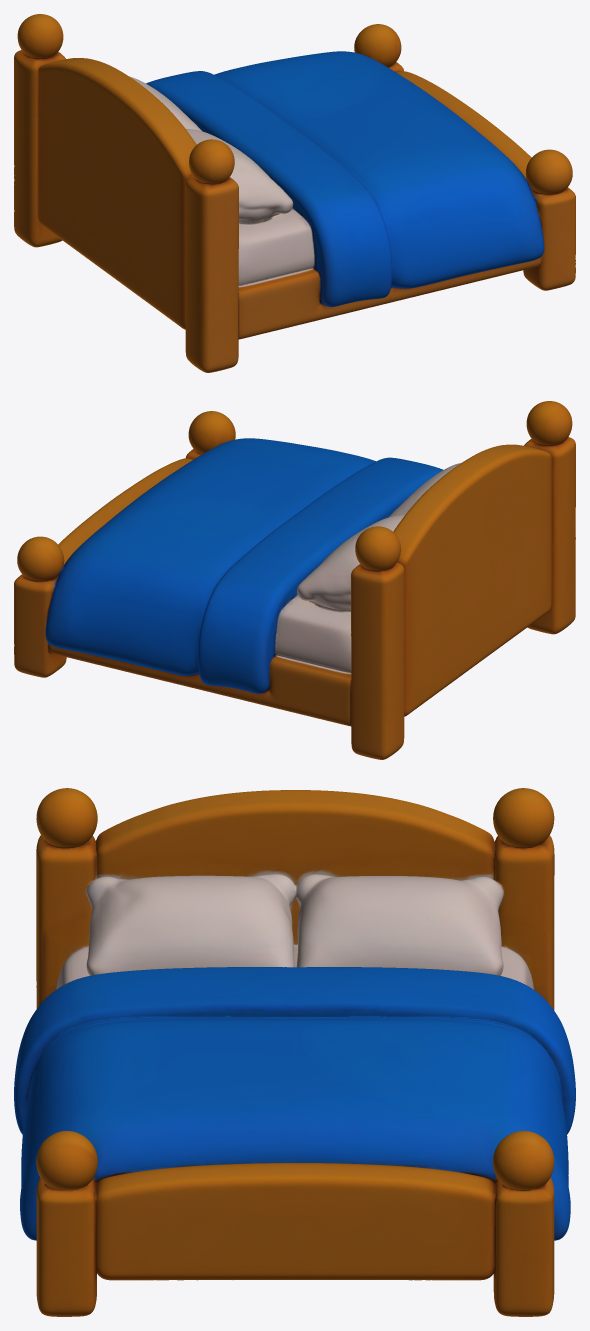
The model's file is bed.glb.
The picture shows the model from 3 angles, top to bottom: view 1: azimuth 30°, elevation 25°; view 2: azimuth 150°, elevation 25°; view 3: azimuth 270°, elevation 25°; orthographic projection. The views are drawn at different scales.
Parts seen in each view (by area): view 1: tripo_node_5b5a801a-291d-4e53-bb8f-8c883f06ba3c; view 2: tripo_node_5b5a801a-291d-4e53-bb8f-8c883f06ba3c; view 3: tripo_node_5b5a801a-291d-4e53-bb8f-8c883f06ba3c.
Boxes of the visible parts, left/top/right/bottom form: tripo_node_5b5a801a-291d-4e53-bb8f-8c883f06ba3c: left=14, top=14, right=575, bottom=372; tripo_node_5b5a801a-291d-4e53-bb8f-8c883f06ba3c: left=14, top=401, right=575, bottom=759; tripo_node_5b5a801a-291d-4e53-bb8f-8c883f06ba3c: left=14, top=788, right=575, bottom=1316.
Size of the model in its own units: 1 by 0.5681 by 0.9672.
Materials: 1 (1 with a texture image).
